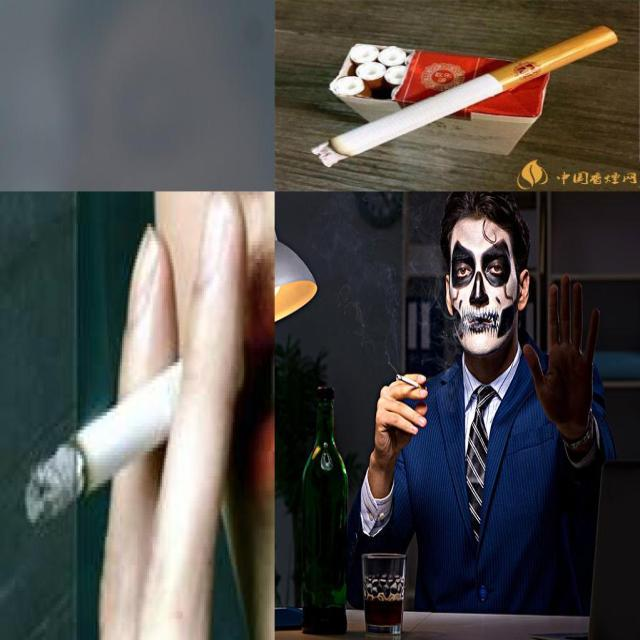smoking: (311, 24, 618, 168), (24, 335, 246, 531), (395, 374, 428, 393)
